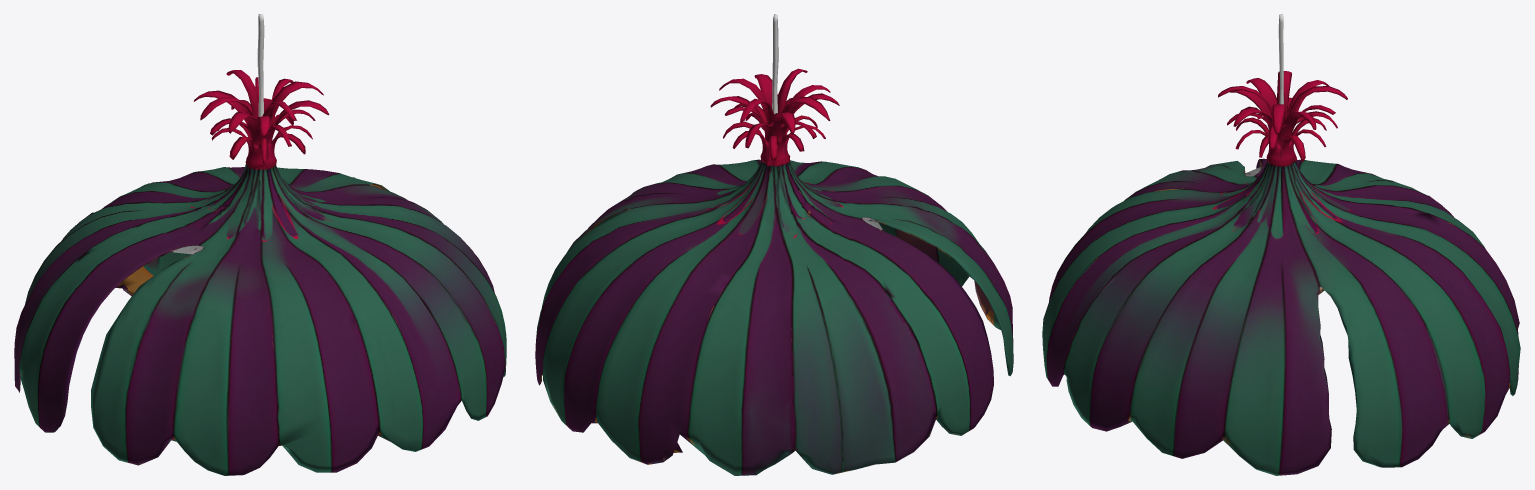
File: tripo_convert_8050eb65-9b7d-47f2-8708-b7d930ea2ba4.fbx
3 renders of one model, left to right at view 1: azimuth 30°, elevation 25°; view 2: azimuth 150°, elevation 25°; view 3: azimuth 270°, elevation 25°, orthographic. The views are drawn at different scales.
Parts seen in each view (by area): view 1: tripo_node_8050eb65; view 2: tripo_node_8050eb65; view 3: tripo_node_8050eb65.
Boxes of the visible parts, left/top/right/bottom form: tripo_node_8050eb65: left=14, top=14, right=506, bottom=475; tripo_node_8050eb65: left=535, top=14, right=1013, bottom=475; tripo_node_8050eb65: left=1042, top=14, right=1520, bottom=475.
Size of the model in its own units: 0.9765 by 0.8282 by 0.975.
Materials: 1 (1 with a texture image).
